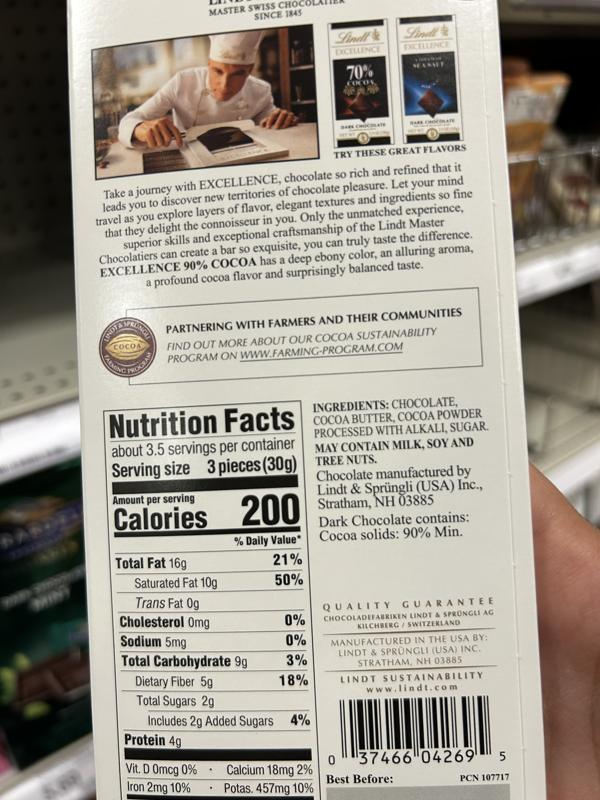ingredients: (312, 394, 489, 440)
